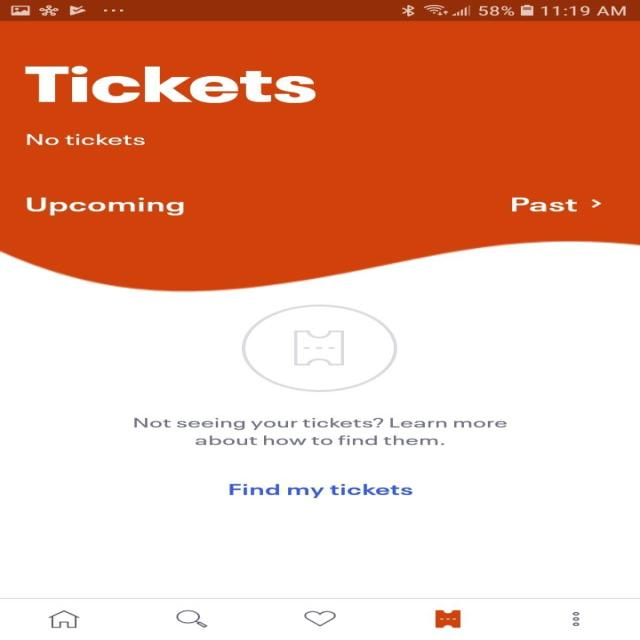Icon: (176, 609, 208, 628), (48, 609, 80, 628), (303, 610, 336, 627), (434, 609, 460, 628), (589, 198, 601, 208), (570, 611, 578, 626)
Image: (240, 304, 398, 392)
Text: (24, 65, 316, 103), (133, 417, 507, 446), (26, 197, 184, 216), (228, 483, 412, 498), (24, 132, 144, 145), (510, 196, 577, 212)
